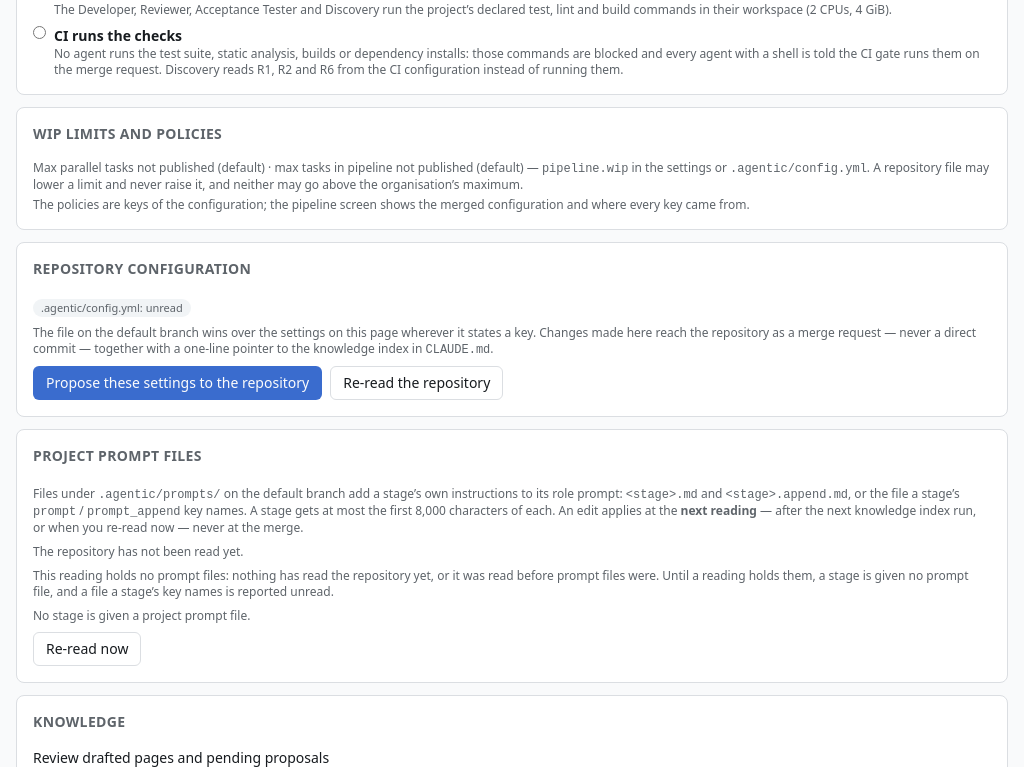
the repository configuration card › proposes the settings with a key and the hash that was read, and shows the merge request
(page scrolled)
Expected: the heading "Repository configuration" is shown, left=33, top=259, right=251, bottom=279
Click the button "Propose these settings to the repository".
click(178, 384)  # box left=33, top=366, right=322, bottom=400
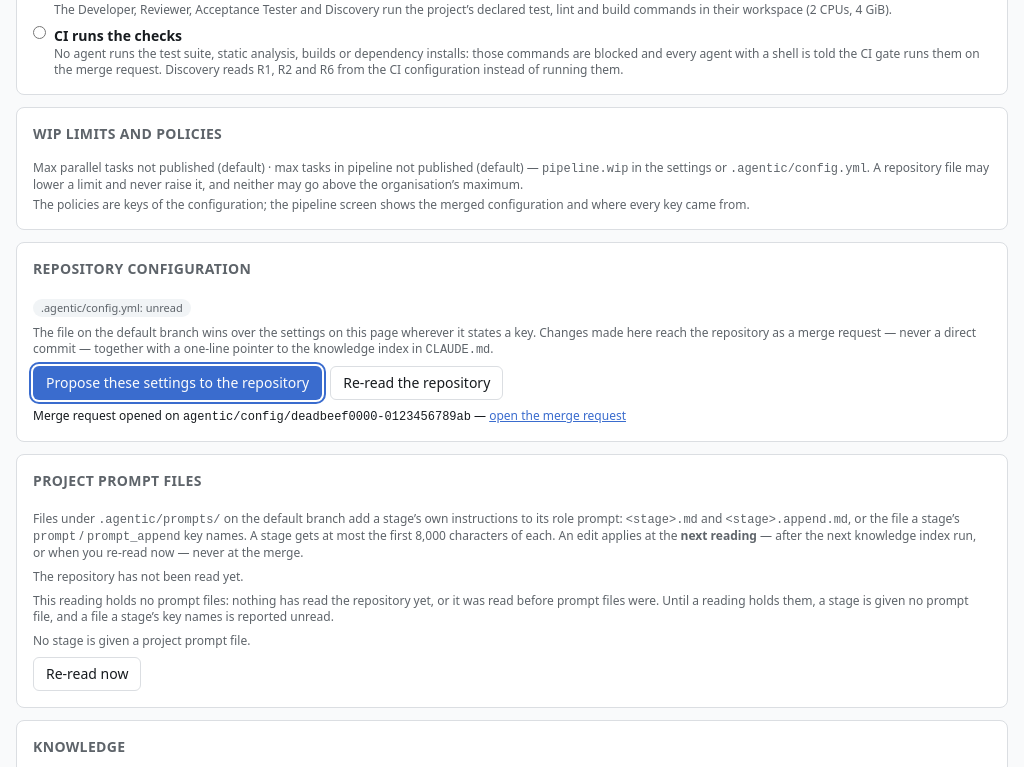
Expected: the text "agentic/config/deadbeef0000-0123456789ab" is shown, left=183, top=410, right=471, bottom=424
